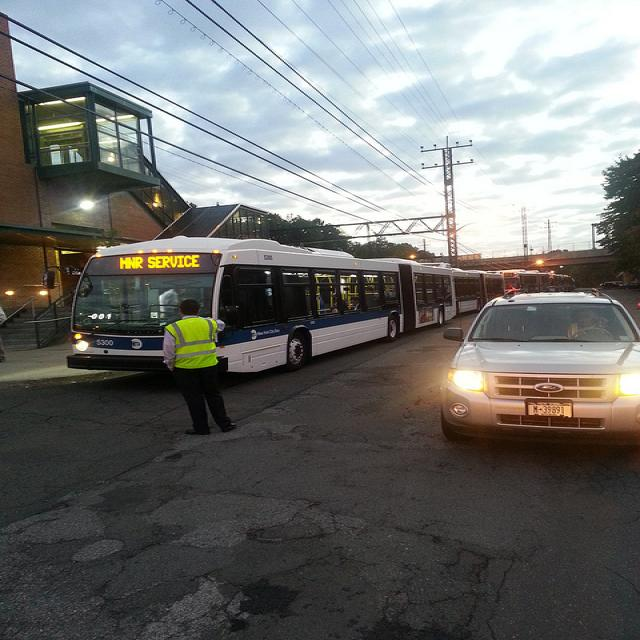Vehicle: (67, 238, 493, 368), (442, 285, 640, 442), (522, 273, 550, 293), (502, 272, 526, 292), (600, 282, 622, 290)
